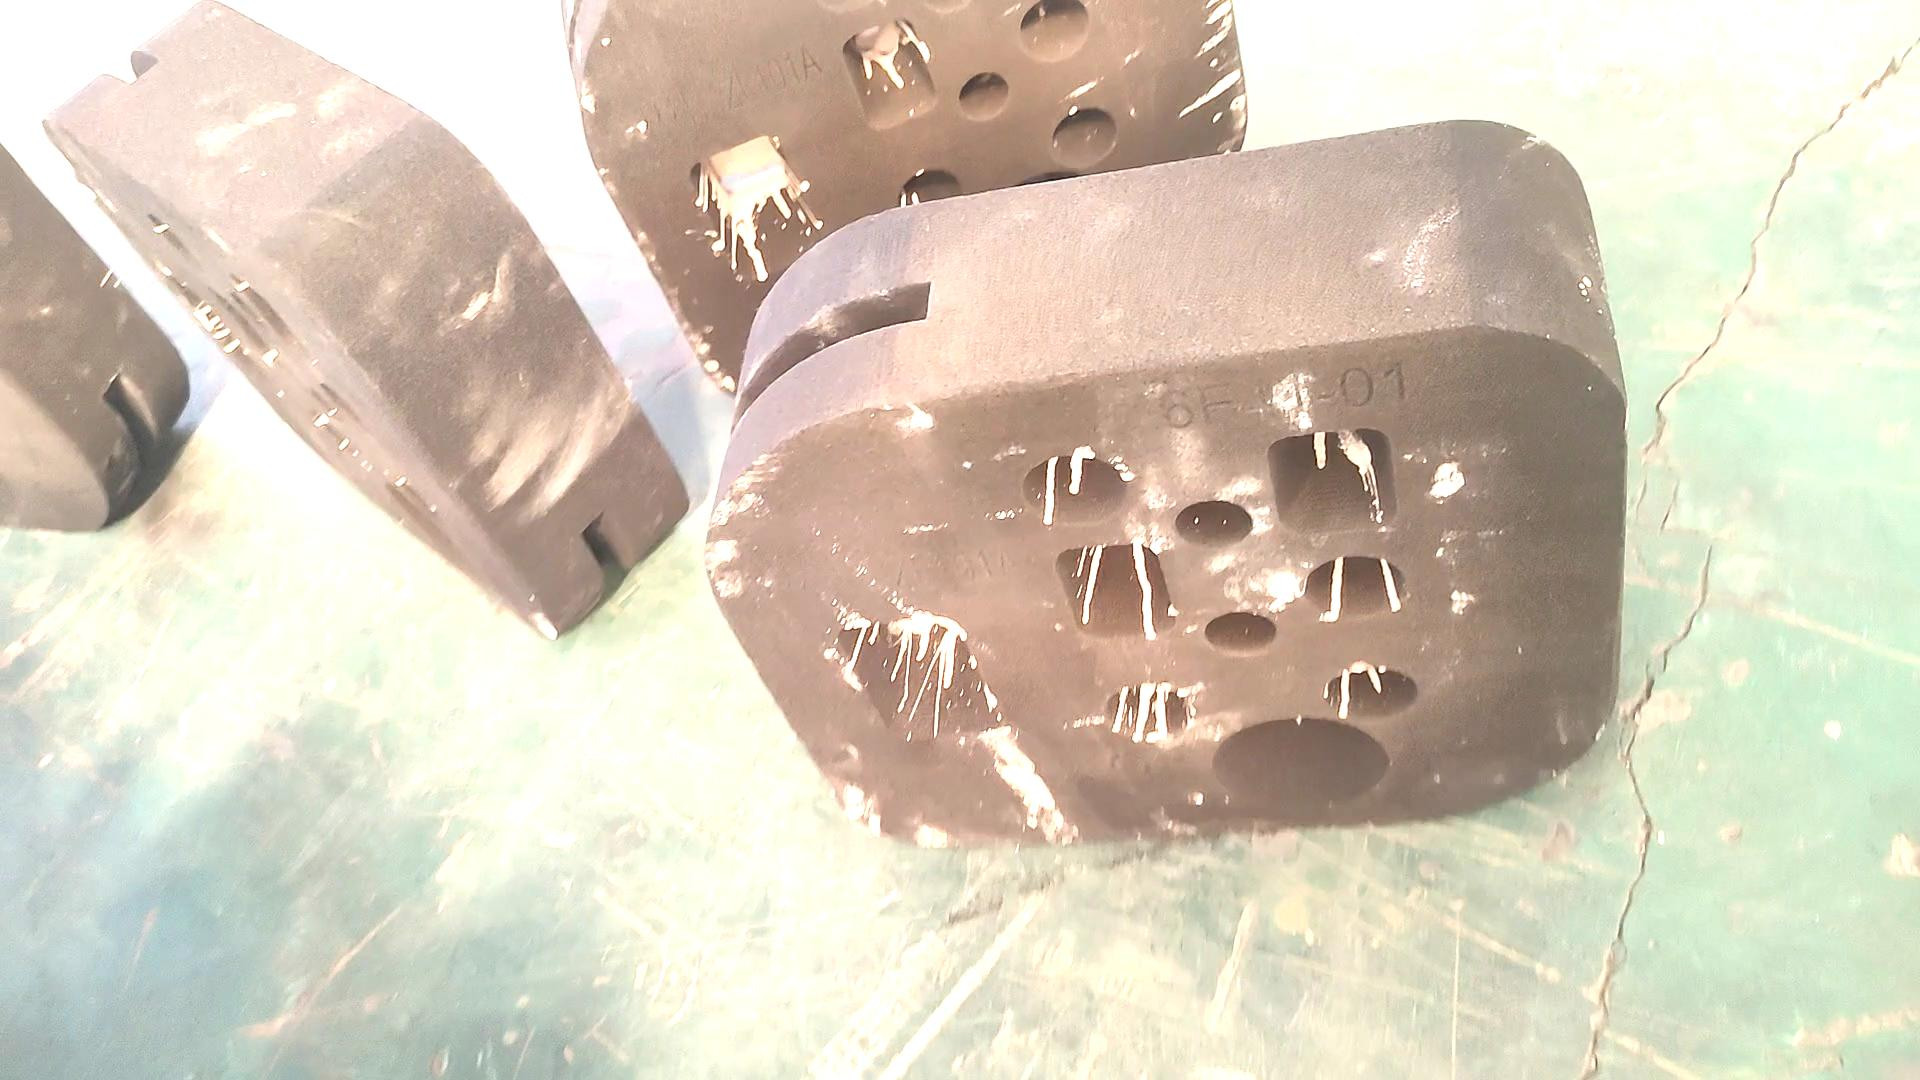pouring hole: (1213, 717, 1390, 807), (386, 483, 479, 582), (1000, 171, 1097, 233)
